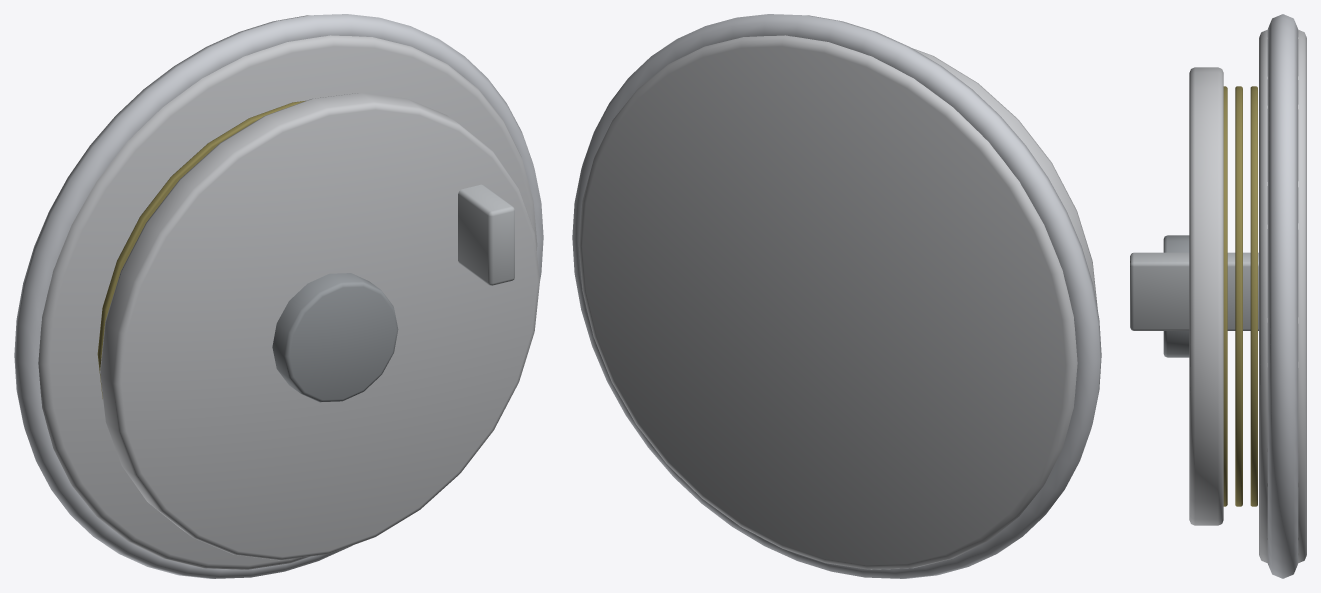
File: trans_flywheel_clutch_assembly.glb
The picture shows the model from 3 angles, left to right: view 1: azimuth 30°, elevation 25°; view 2: azimuth 150°, elevation 25°; view 3: azimuth 270°, elevation 25°; orthographic projection. The views are drawn at different scales.
Visible parts, largest first — view 1: Trans_Flywheel_Clutch_Assembly; view 2: Trans_Flywheel_Clutch_Assembly; view 3: Trans_Flywheel_Clutch_Assembly.
Part boxes in pixels (<box>): Trans_Flywheel_Clutch_Assembly: <box>14,14,543,578</box>; Trans_Flywheel_Clutch_Assembly: <box>572,14,1101,578</box>; Trans_Flywheel_Clutch_Assembly: <box>1130,14,1306,578</box>.
Bounding box in the file's own units: 0.296 × 0.296 × 0.0925.
